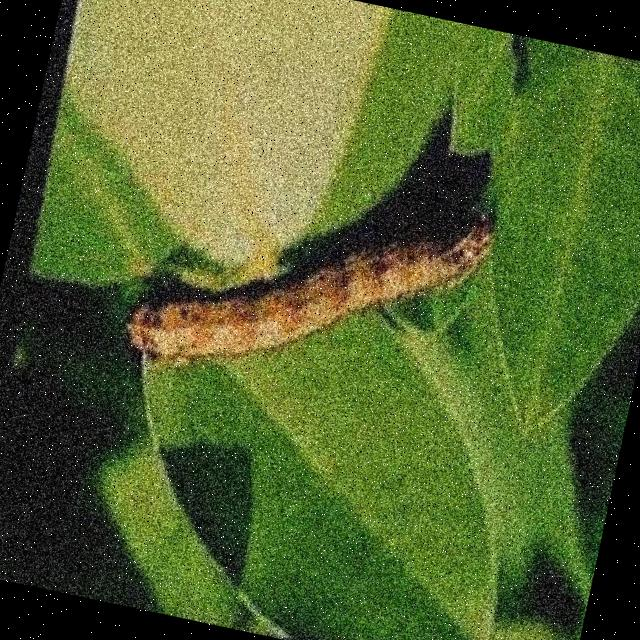worm: (118, 123, 506, 431)
